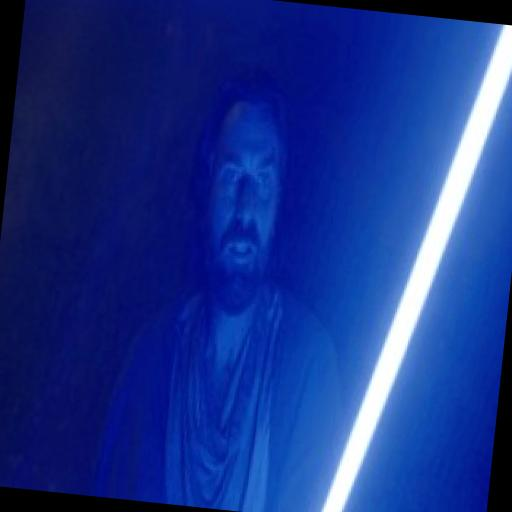human: (86, 57, 387, 512)
lightsaber: (306, 12, 512, 512)
